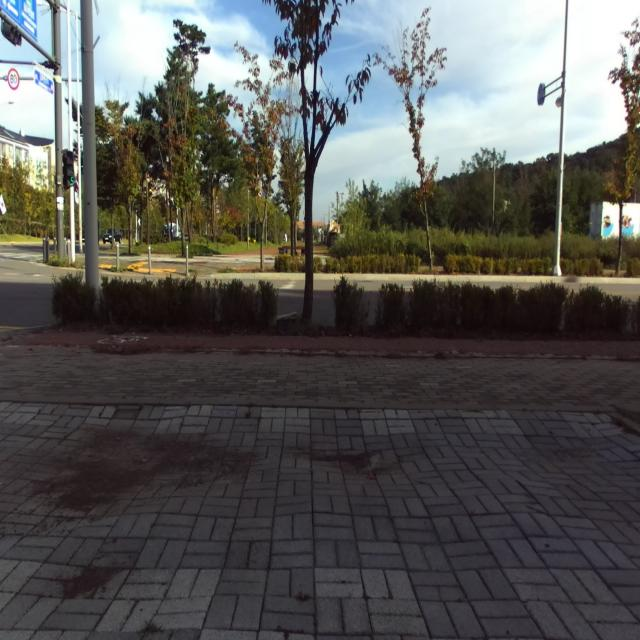초록불: (66, 150, 74, 187)
